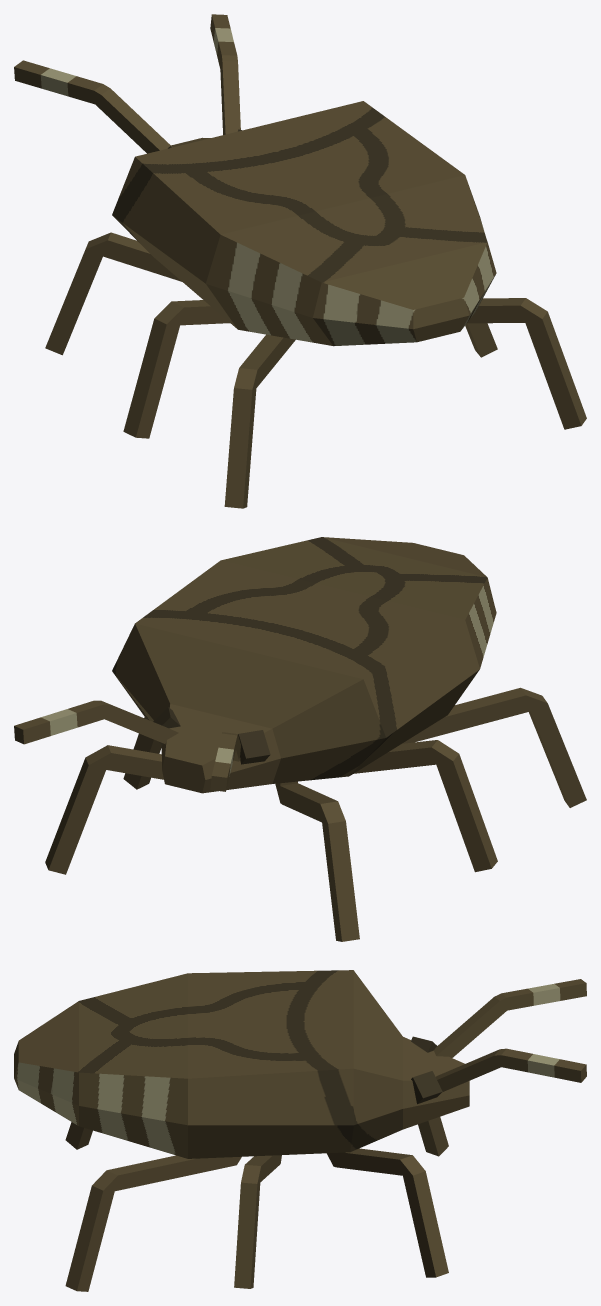
The model's file is stinkbug.fbx.
The picture shows the model from 3 angles, top to bottom: view 1: azimuth 30°, elevation 25°; view 2: azimuth 150°, elevation 25°; view 3: azimuth 270°, elevation 25°; orthographic projection. The views are drawn at different scales.
Visible parts, largest first — view 1: stinkbug; view 2: stinkbug; view 3: stinkbug.
Part boxes in pixels (x1,y1,x2,y2): stinkbug: (14, 14, 586, 508); stinkbug: (14, 537, 586, 941); stinkbug: (14, 970, 586, 1291).
Size of the model in its own units: 225 by 342 by 131.
1 material, 1 textured.
